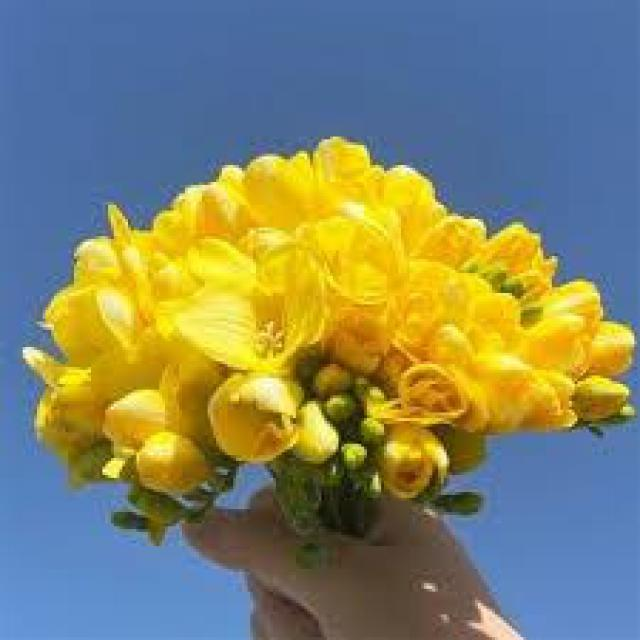freesia: (305, 182, 468, 336), (505, 269, 637, 415), (173, 248, 336, 366), (158, 155, 309, 247), (44, 247, 147, 365), (202, 366, 300, 461), (388, 342, 463, 443)
